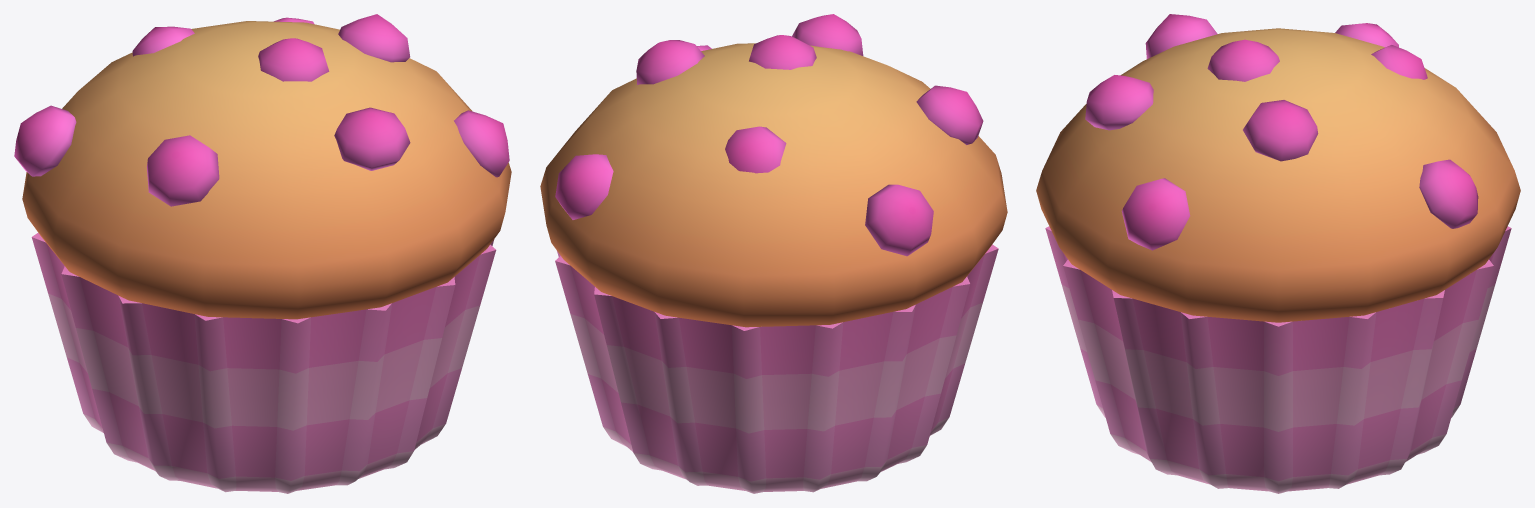
The model's file is Cupcake_Cherry_V1_00.fbx.
3 renders of one model, left to right at view 1: azimuth 30°, elevation 25°; view 2: azimuth 150°, elevation 25°; view 3: azimuth 270°, elevation 25°, orthographic. The views are drawn at different scales.
Parts seen in each view (by area): view 1: Cupcake_Cherry_V1_00; view 2: Cupcake_Cherry_V1_00; view 3: Cupcake_Cherry_V1_00.
Part boxes in pixels (left/top/right/bottom): Cupcake_Cherry_V1_00: left=14, top=14, right=511, bottom=493; Cupcake_Cherry_V1_00: left=540, top=14, right=1007, bottom=493; Cupcake_Cherry_V1_00: left=1036, top=14, right=1520, bottom=493.
Size of the model in its own units: 32.49 by 29.25 by 32.49.
